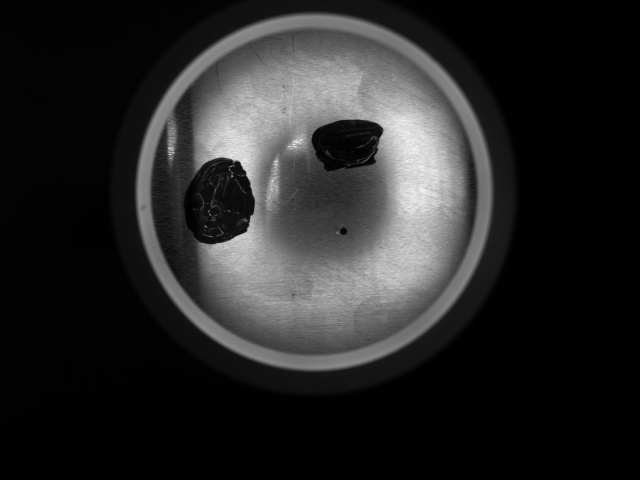zang_wu: (184, 155, 259, 245), (313, 119, 384, 172)
zhen_kong: (336, 224, 352, 237)
